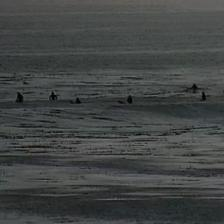surfer: (187, 83, 201, 92), (16, 92, 24, 102), (49, 92, 58, 100), (201, 91, 207, 101), (127, 95, 133, 104), (75, 97, 82, 104)
